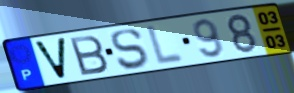8: (225, 12, 261, 55)
9: (192, 17, 227, 59)
B: (67, 33, 111, 77)
L: (145, 23, 186, 67)
S: (109, 27, 150, 72)
V: (31, 36, 68, 82)
